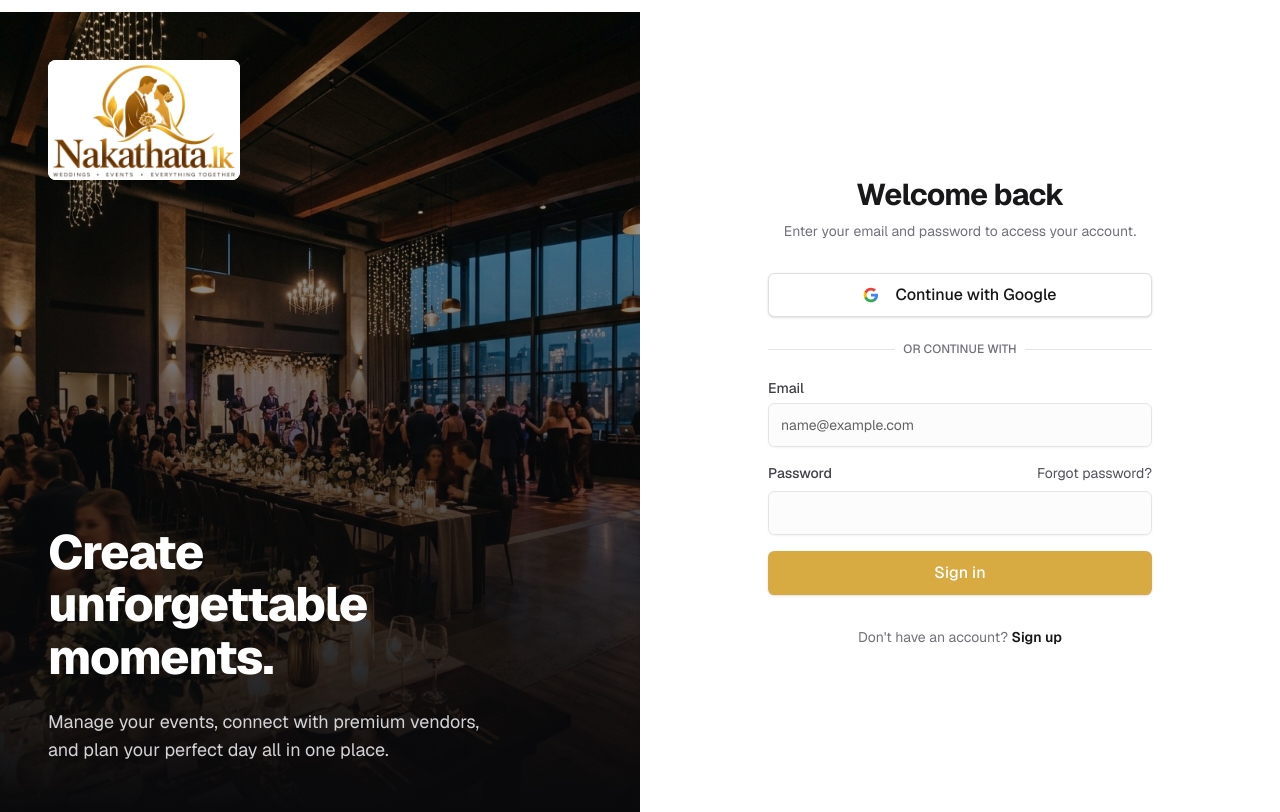
Test: 02 - Authentication & Route Guard Flows › displays an error alert/toast on invalid login credentials
Step 1. Type "nonexistent-test-user@nakathata.lk" into the field with id "email" → (960, 425), box [768,403,1152,447]
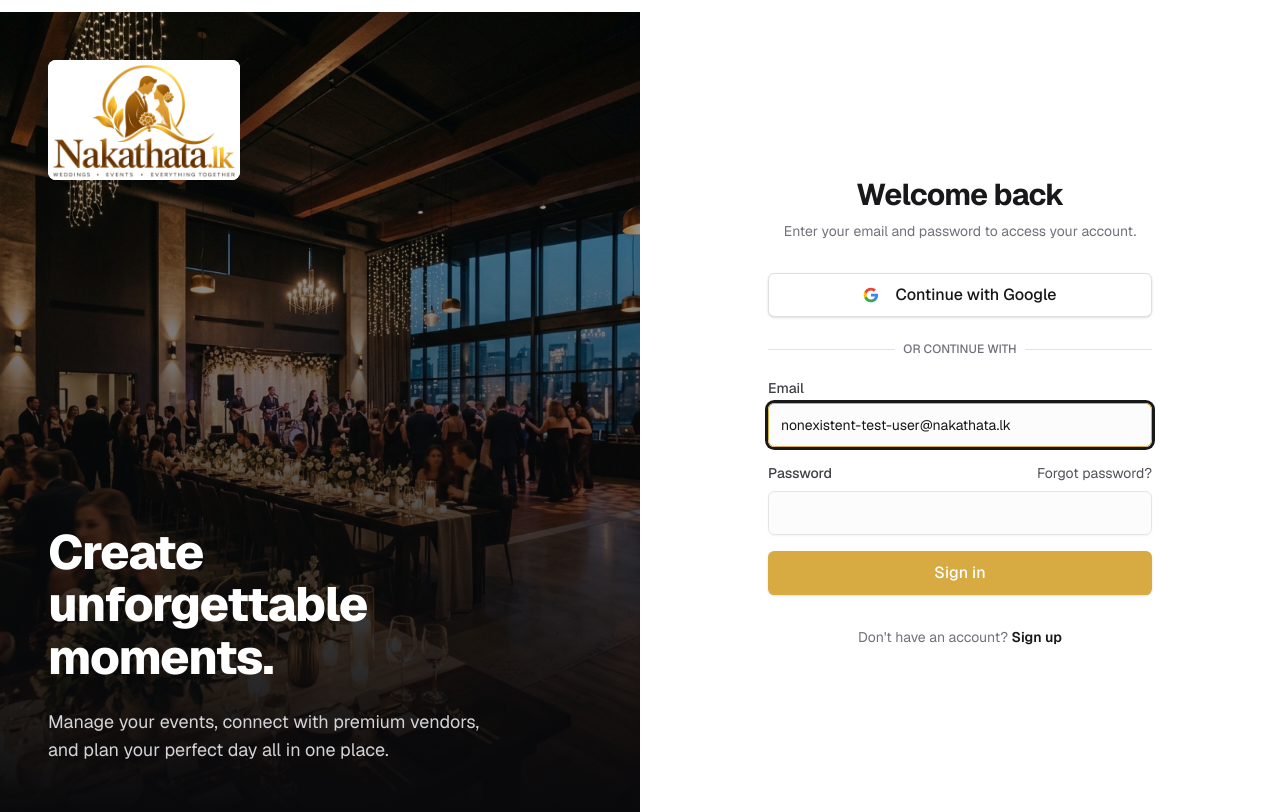
Step 2. Type "WrongPassword123!" into the password field labelled "Password" → (960, 513), box [768,491,1152,535]
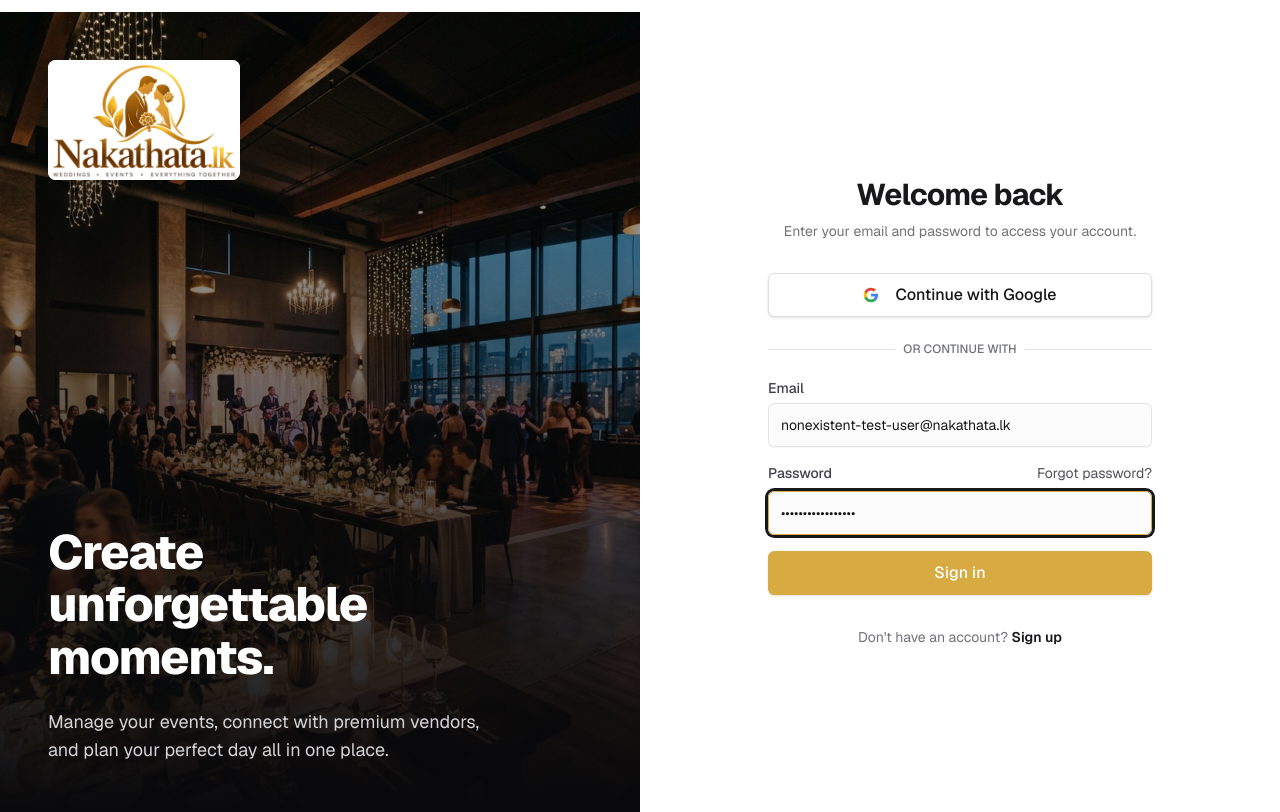
Step 3. Click the button "Sign in" → click(960, 573), box [768,551,1152,595]
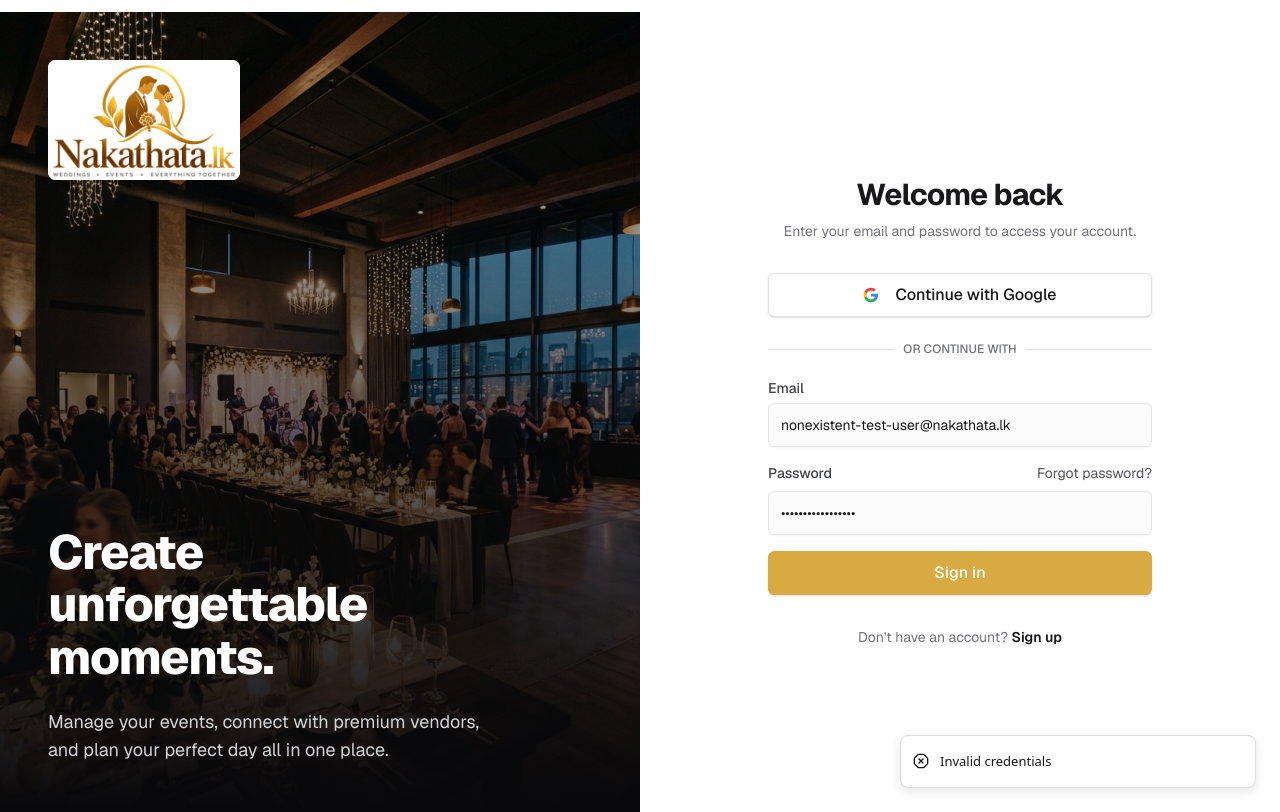
Now the text "Invalid credentials" is shown, box [940,752,1051,771]
